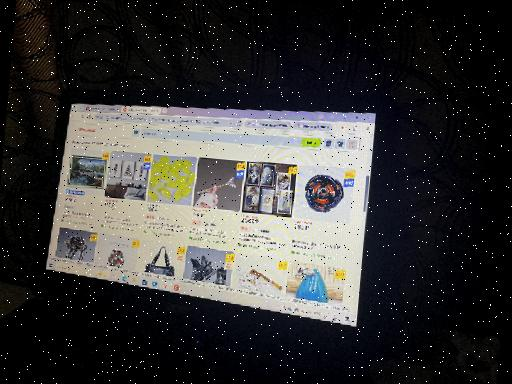aliexpress: (48, 113, 377, 307)
